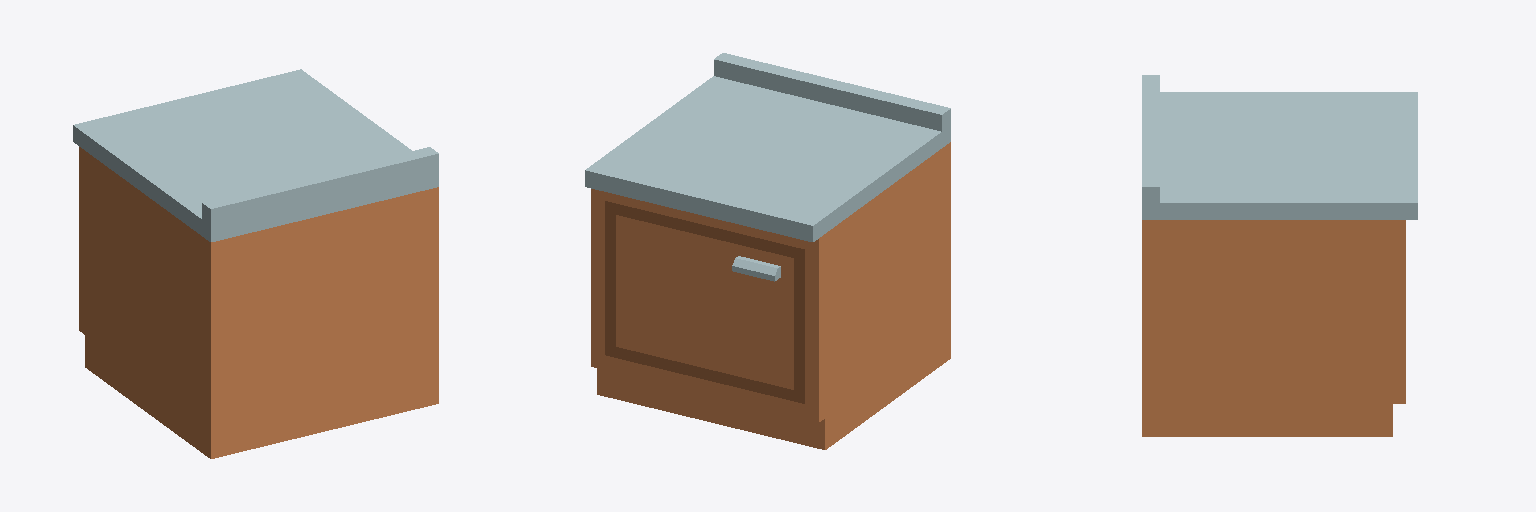
The model's file is kitchenCabinet.obj.
3 views of the same model, side by side, from view 1: azimuth 30°, elevation 25°; view 2: azimuth 150°, elevation 25°; view 3: azimuth 270°, elevation 25° (orthographic).
Parts seen in each view (by area): view 1: kitchenCabinet; view 2: kitchenCabinet, door; view 3: kitchenCabinet.
Boxes of the visible parts, box(x1,y1,x2,y2) form: kitchenCabinet: box(73, 69, 438, 458); kitchenCabinet: box(585, 53, 950, 449); door: box(605, 201, 804, 403); kitchenCabinet: box(1142, 75, 1417, 436).
Bounding box in the file's own units: 1.8 × 1.89 × 1.89.